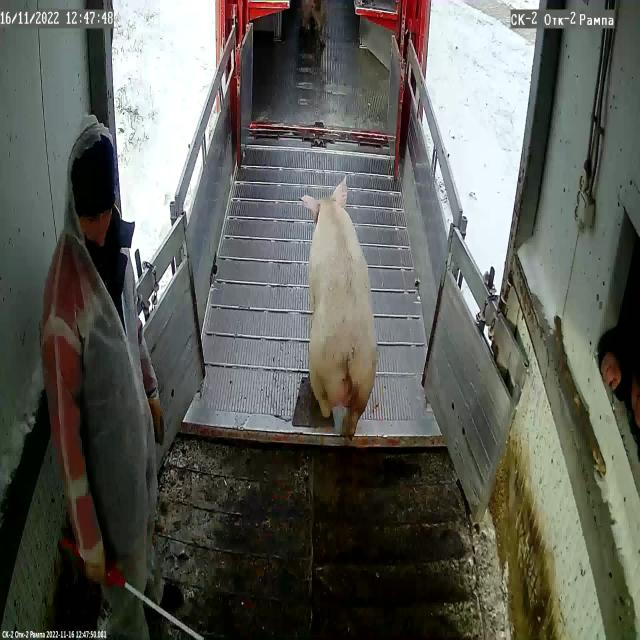pig: (301, 177, 377, 421)
